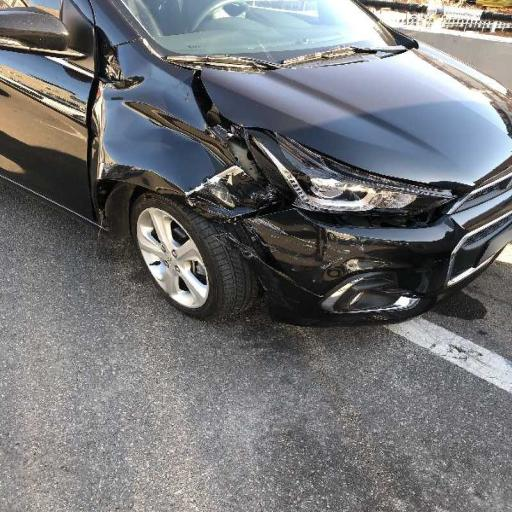broken: (72, 33, 422, 368)
